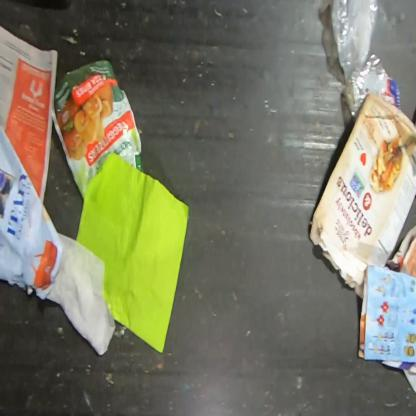cardboard: (309, 91, 416, 288)
rigid_plastic: (330, 0, 388, 125)
soft_plastic: (50, 60, 144, 201)
